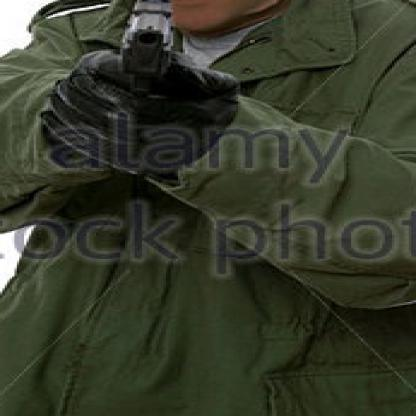gun: (113, 0, 185, 102)
